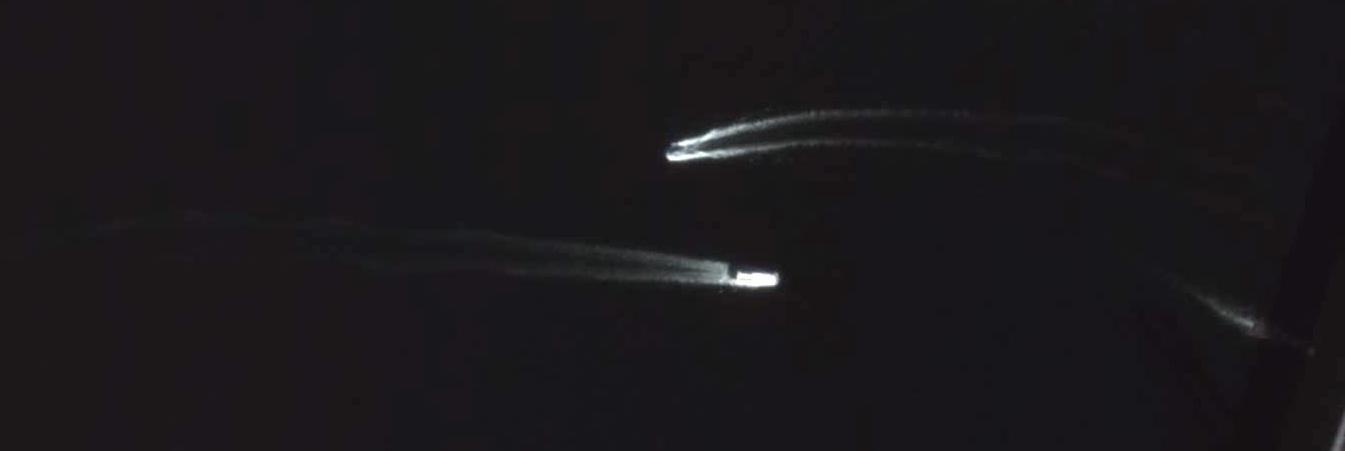person: (1278, 332, 1317, 356), (735, 270, 779, 288), (666, 145, 688, 154)
